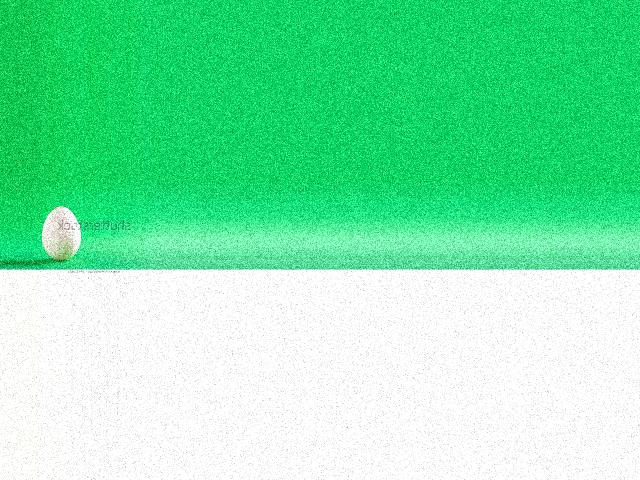egg: (41, 206, 80, 262)
